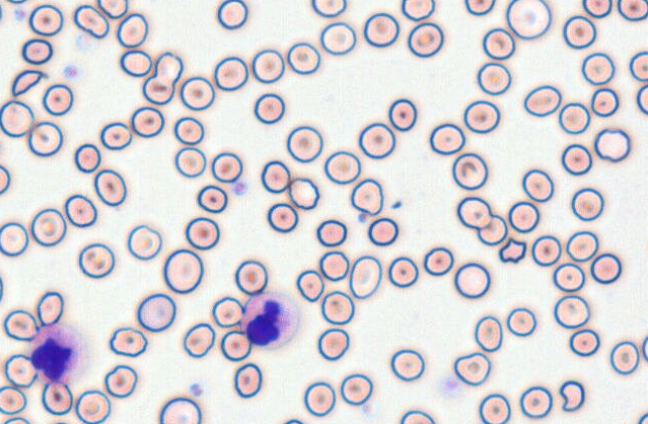GRAN: (242, 291, 303, 352), (32, 322, 87, 384)
PLT: (231, 179, 249, 196), (62, 63, 80, 79), (14, 6, 27, 22), (189, 382, 203, 396)
RBC: (163, 248, 203, 294), (506, 0, 551, 39), (136, 293, 176, 332), (348, 255, 382, 299), (286, 125, 323, 163), (451, 152, 488, 190), (358, 122, 395, 159), (30, 208, 66, 246), (78, 242, 115, 278), (27, 120, 63, 156), (126, 224, 162, 260), (454, 262, 490, 298), (0, 99, 34, 137), (323, 150, 361, 184), (93, 168, 127, 206), (407, 22, 443, 57), (363, 12, 399, 47), (179, 75, 215, 110), (319, 21, 356, 55), (463, 99, 500, 133), (320, 290, 355, 325), (75, 389, 111, 423), (234, 259, 268, 295), (553, 295, 590, 328), (523, 85, 561, 117), (3, 353, 37, 388), (214, 56, 248, 91), (429, 122, 465, 155), (109, 326, 147, 357), (103, 364, 137, 398), (185, 216, 219, 250), (456, 196, 491, 229), (303, 381, 336, 416), (476, 62, 511, 95), (251, 48, 284, 83), (183, 322, 215, 358), (116, 12, 148, 48), (159, 396, 201, 423), (64, 193, 97, 227), (390, 348, 424, 381), (563, 15, 596, 49), (286, 41, 320, 74), (571, 187, 604, 221), (581, 52, 615, 85), (3, 309, 38, 341), (28, 4, 63, 36), (482, 27, 515, 60), (519, 385, 552, 418), (41, 381, 73, 415), (522, 168, 554, 202), (211, 296, 244, 328), (317, 327, 349, 360), (340, 373, 373, 405), (566, 230, 599, 262), (130, 106, 164, 137), (609, 340, 639, 375), (233, 362, 262, 398), (474, 315, 502, 352), (253, 92, 285, 124), (590, 252, 622, 284), (174, 146, 206, 178), (558, 102, 590, 134), (508, 200, 539, 233), (0, 221, 29, 256), (476, 214, 508, 245), (288, 177, 319, 209), (142, 74, 174, 105), (561, 143, 592, 175), (42, 83, 73, 115), (211, 151, 242, 183), (552, 262, 585, 292), (260, 160, 290, 193), (478, 393, 511, 423), (220, 330, 251, 361), (267, 202, 298, 233), (531, 234, 561, 266), (154, 51, 183, 84), (388, 98, 417, 131), (36, 291, 64, 325), (319, 250, 349, 281), (423, 246, 454, 276), (388, 256, 418, 287), (216, 0, 248, 29), (100, 121, 132, 150), (119, 49, 152, 77), (196, 184, 227, 213), (367, 217, 398, 246), (173, 116, 204, 145), (506, 307, 536, 336), (590, 87, 619, 117), (569, 328, 600, 356), (316, 219, 347, 247), (73, 143, 101, 173), (21, 38, 52, 65), (0, 385, 27, 414), (401, 0, 435, 21), (617, 0, 647, 21), (311, 0, 346, 17), (97, 0, 128, 19), (629, 51, 647, 82), (582, 0, 612, 18), (399, 409, 434, 423), (464, 0, 495, 15), (636, 84, 647, 115), (0, 164, 10, 194), (641, 334, 648, 362), (3, 416, 30, 423), (45, 419, 72, 424), (282, 418, 305, 423), (0, 275, 4, 303), (637, 412, 647, 423), (0, 132, 4, 156), (6, 0, 28, 4), (0, 3, 3, 23)
Schistocyte: (452, 353, 492, 386), (595, 127, 632, 162), (351, 178, 385, 215), (76, 4, 109, 39), (297, 270, 326, 302), (12, 69, 46, 96), (560, 380, 587, 413), (498, 237, 528, 265)
